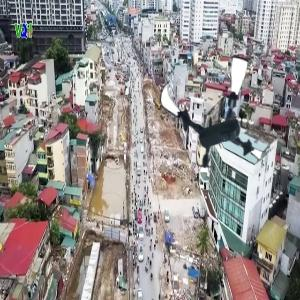drone: (158, 54, 278, 174)
